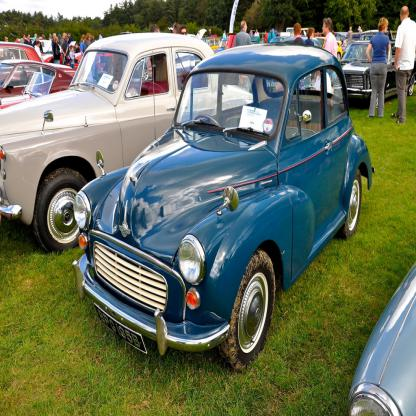Car: (0, 28, 416, 416)
